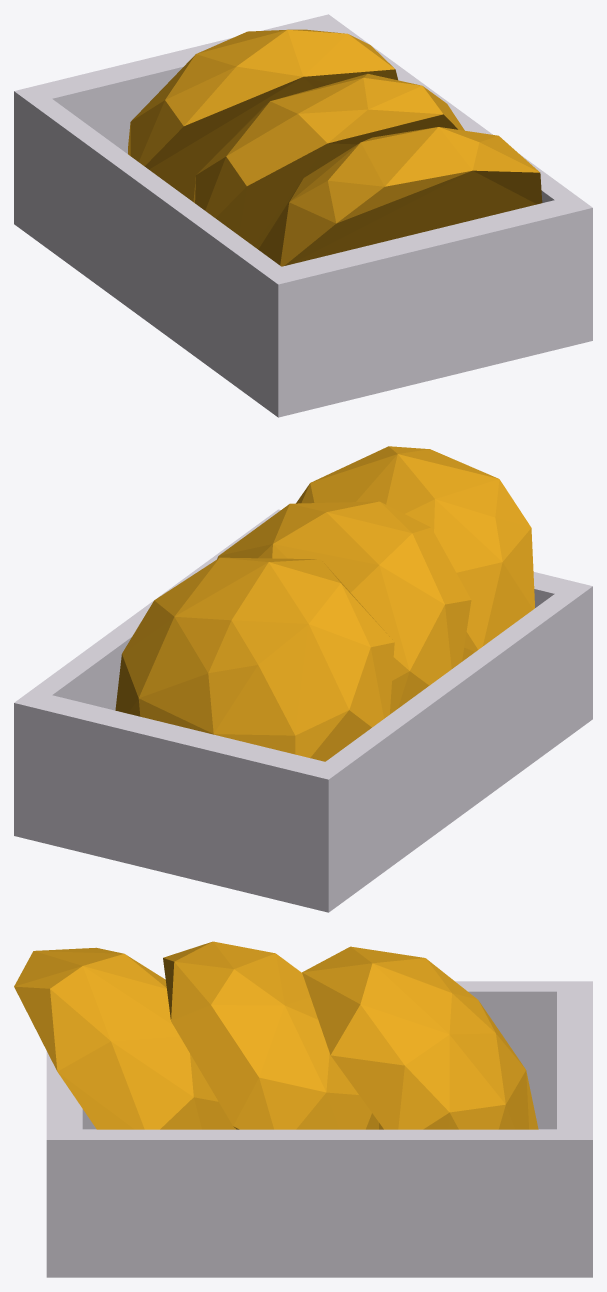
File: E_BreadTopGenerator.fbx
The picture shows the model from 3 angles, top to bottom: view 1: azimuth 30°, elevation 25°; view 2: azimuth 150°, elevation 25°; view 3: azimuth 270°, elevation 25°; orthographic projection. The views are drawn at different scales.
Parts seen in each view (by area): view 1: Cube, Sphere; view 2: Cube, Sphere; view 3: Cube, Sphere.
Part boxes in pixels (x1,y1,x2,y2): Cube: (14,14,592,417); Sphere: (128,29,542,266); Cube: (14,509,592,912); Sphere: (115,446,534,761); Cube: (46,981,592,1277); Sphere: (14,941,538,1129).
Bounding box in the file's own units: 19.8 × 14.17 × 30.53.
